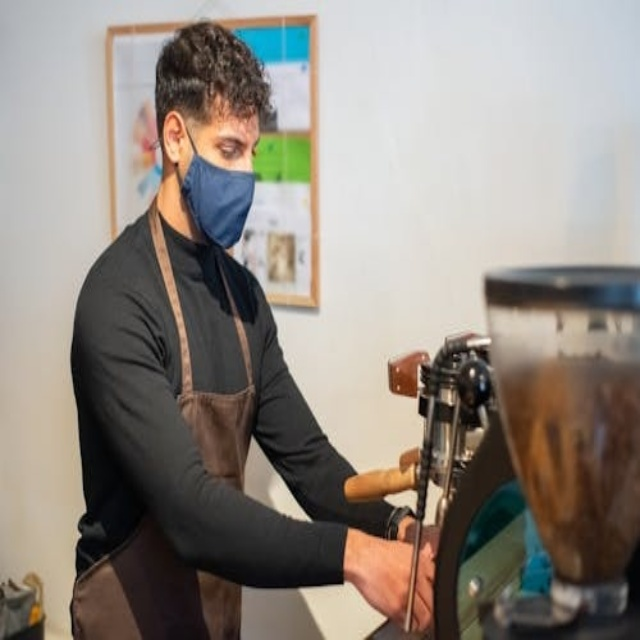Mascara: (177, 121, 256, 248)
Sin_gafas: (195, 126, 265, 161)
Sin_guantes: (348, 525, 434, 634)
